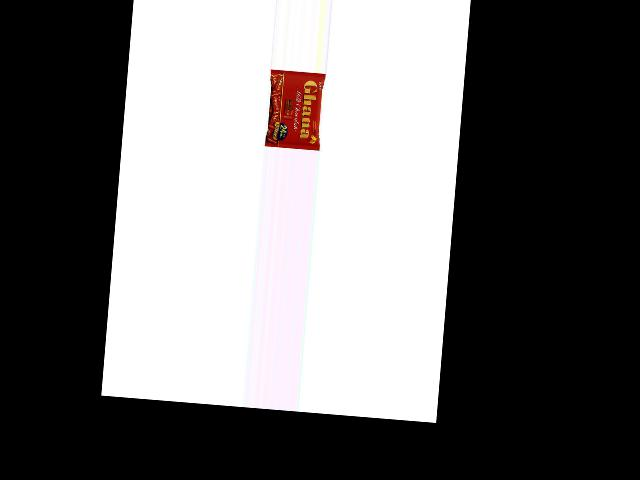chocolate: (262, 70, 324, 151)
